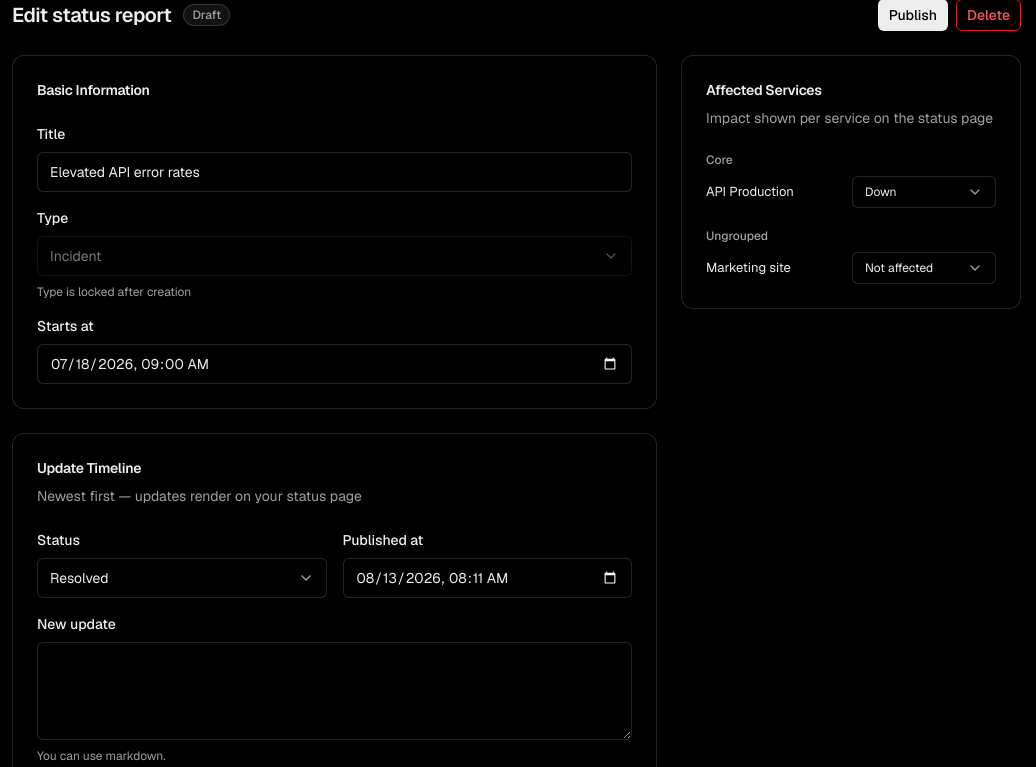
Test: ReportEditor edit mode › posts a composer update scoped to the report
In the text box labelled "New update": (334, 691) [37,642,632,740], type "Postmortem coming."
(page scrolled)
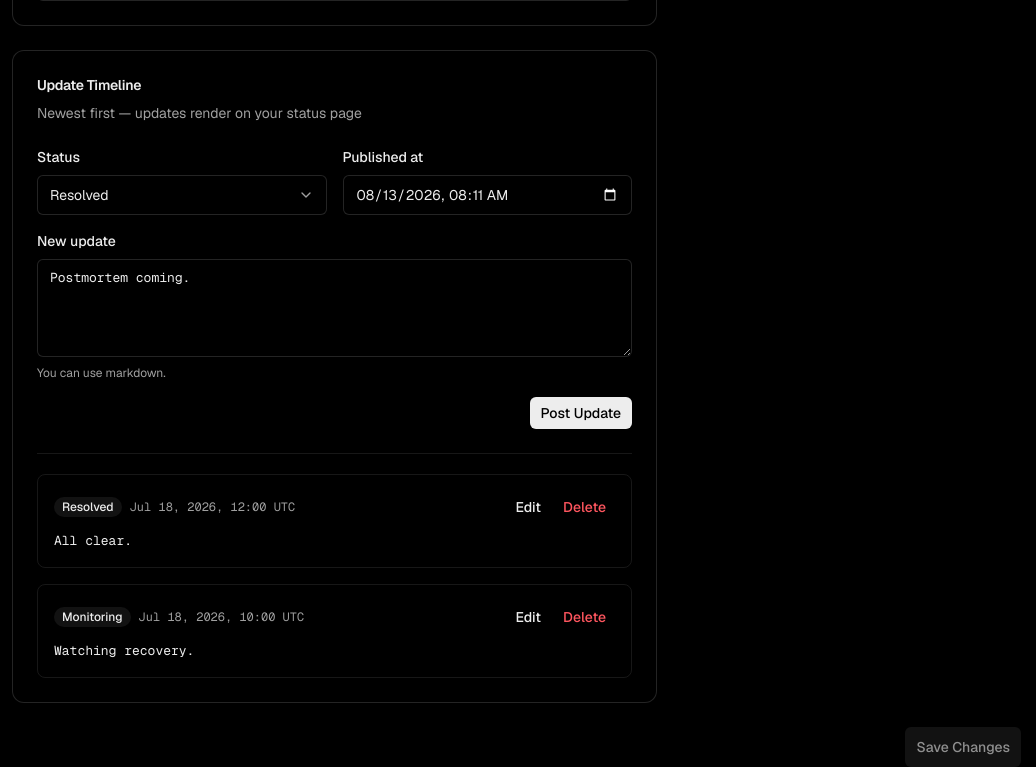
Click the button "Post Update": (581, 413) [530,397,632,429]
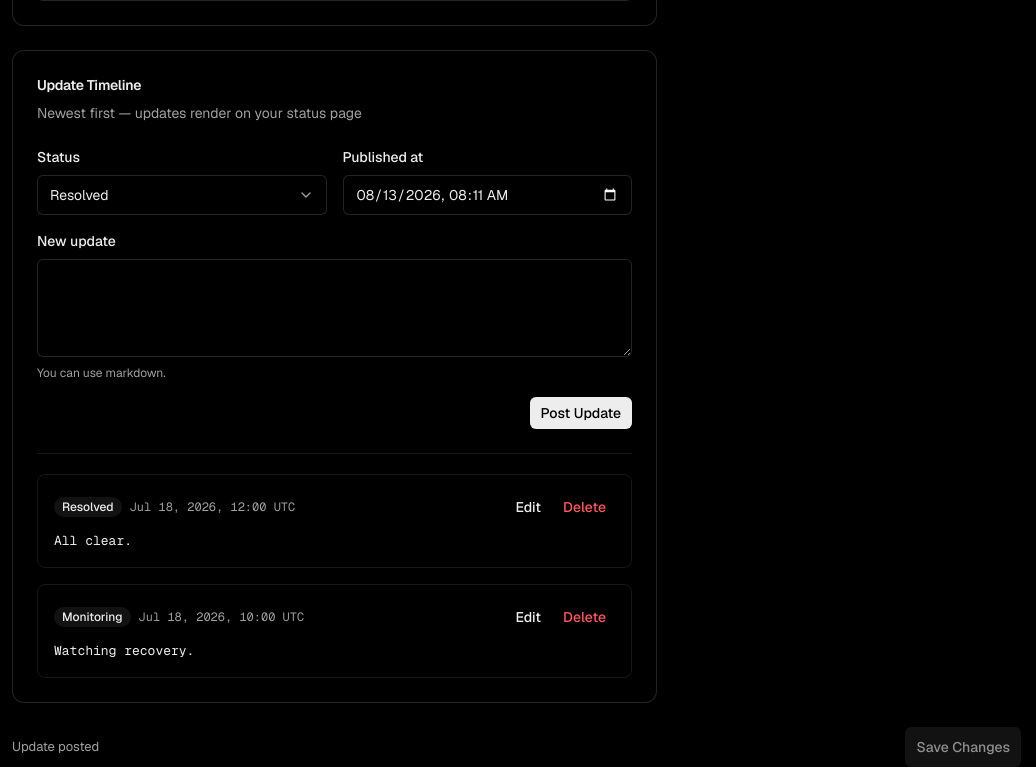
Expected: the text "Update posted" is shown, [12,737,99,757]
